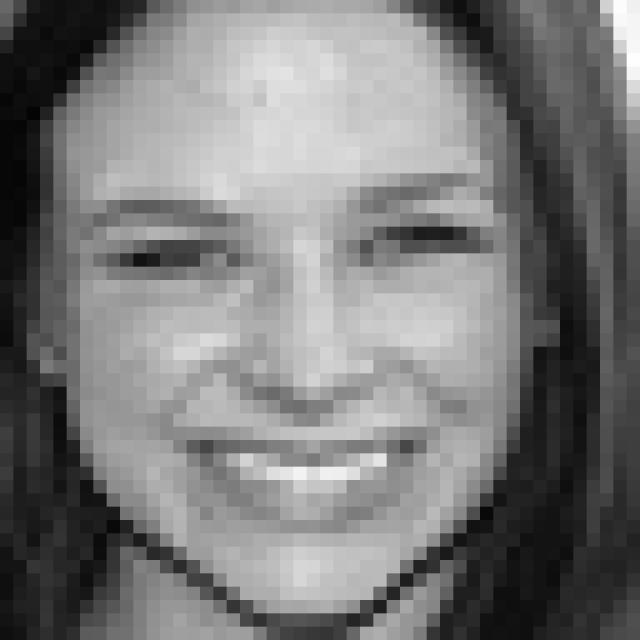happy: (72, 165, 506, 533)
